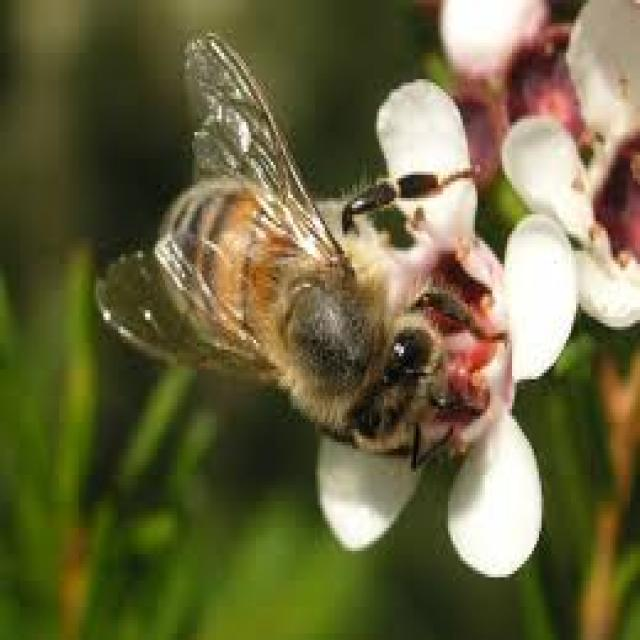Bees: (92, 28, 511, 478)
